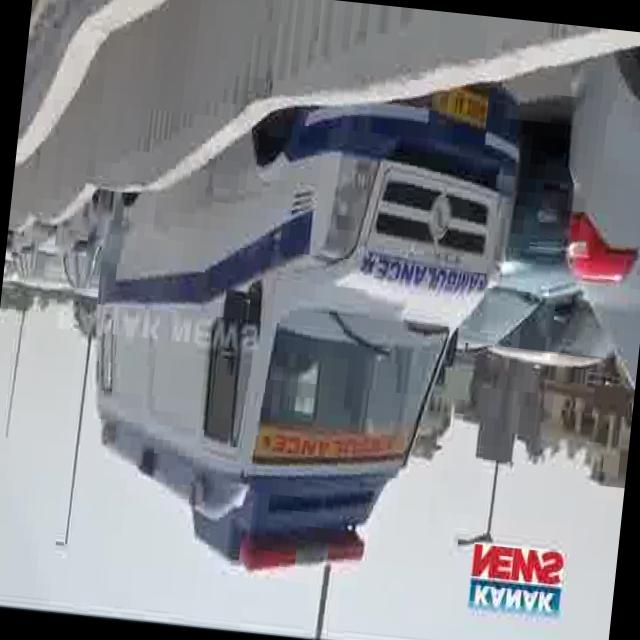ambulance: (66, 45, 528, 602)
